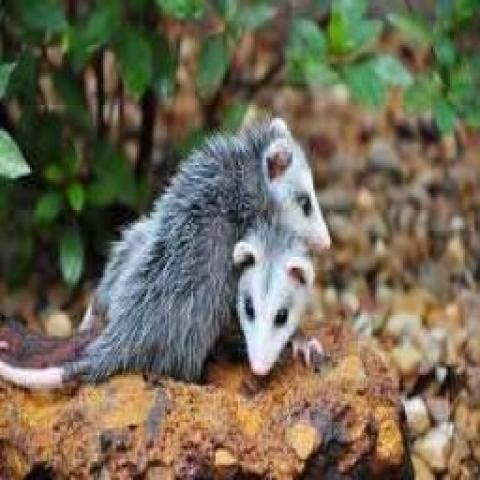small_animal: (5, 116, 332, 397), (70, 208, 330, 376)
